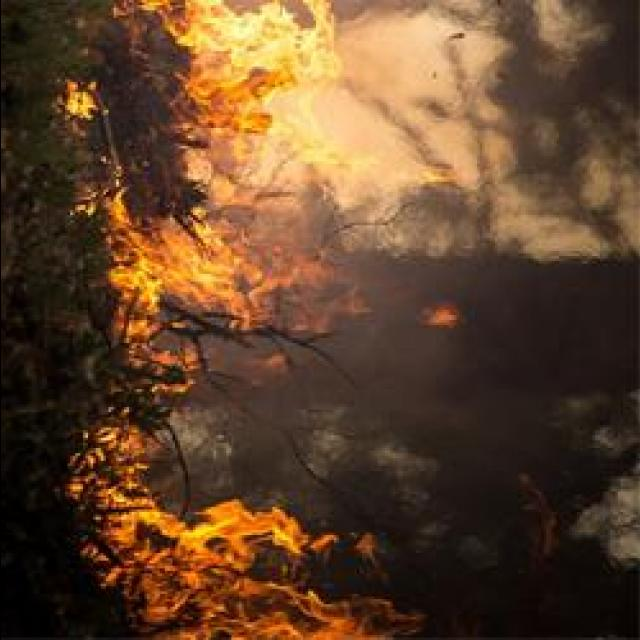fire: (181, 0, 343, 185), (106, 212, 255, 353)
